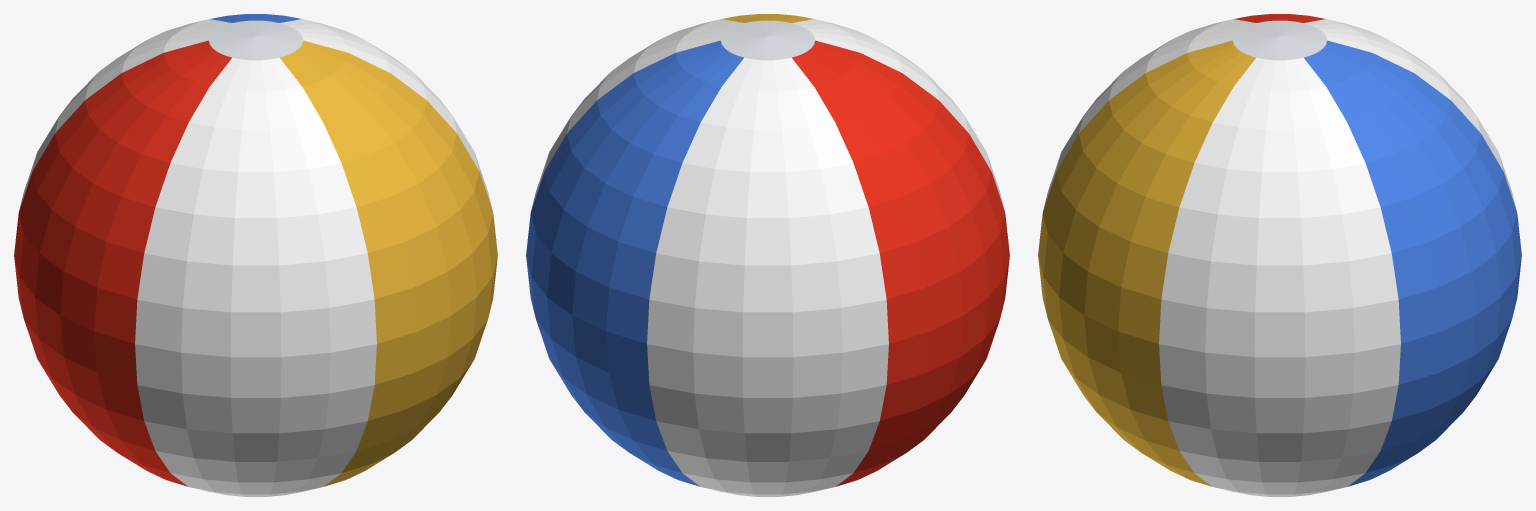
Rendered from seeeball.fbx.
3 views of the same model, side by side, from view 1: azimuth 30°, elevation 25°; view 2: azimuth 150°, elevation 25°; view 3: azimuth 270°, elevation 25° (orthographic).
Parts seen in each view (by area): view 1: Sphere; view 2: Sphere; view 3: Sphere.
Boxes of the visible parts, x1,y1,x2,y2 form: Sphere: (14,14,497,496); Sphere: (526,14,1009,496); Sphere: (1038,14,1521,496).
Bounding box in the file's own units: 199 × 200 × 200.
